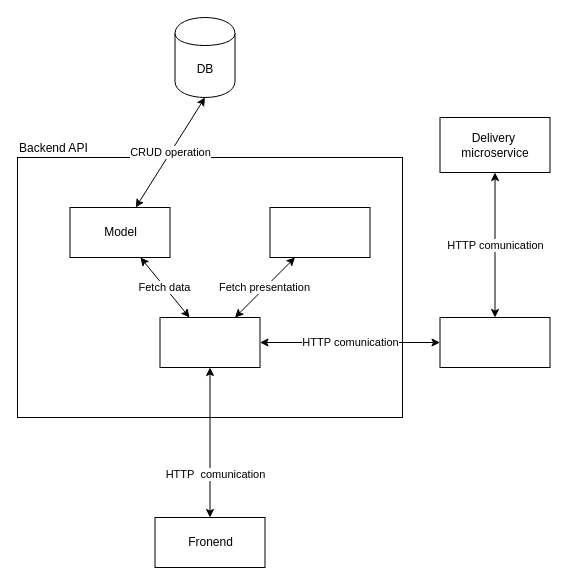
This 568x585 diagram has some shape labels left out. Each missing label, with the box of its shape:
Controller: (159, 316, 260, 368)
Kafka: (439, 316, 550, 368)
View: (269, 206, 370, 258)
